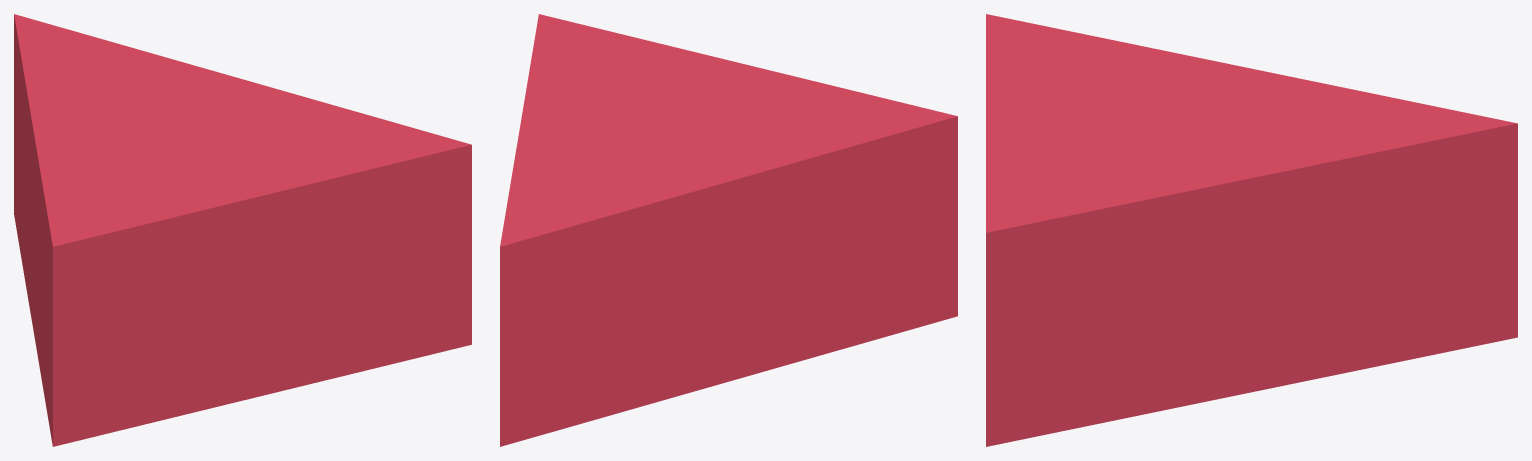
File: BPlayer 1.fbx
The picture shows the model from 3 angles, left to right: view 1: azimuth 30°, elevation 25°; view 2: azimuth 150°, elevation 25°; view 3: azimuth 270°, elevation 25°; orthographic projection. The views are drawn at different scales.
Parts seen in each view (by area): view 1: Circle.001; view 2: Circle.001; view 3: Circle.001.
Part boxes in pixels (<box>): Circle.001: <box>14,14,471,446</box>; Circle.001: <box>500,14,957,446</box>; Circle.001: <box>986,14,1517,446</box>.
Size of the model in its own units: 178 by 80.97 by 182.
